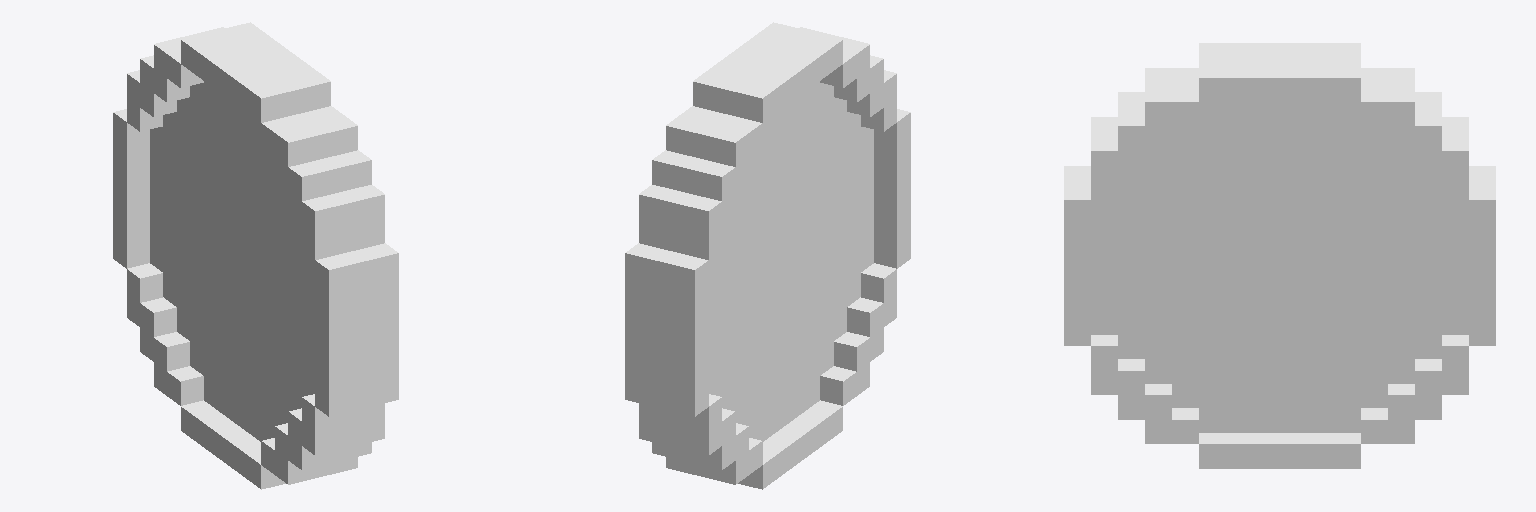
Rendered from DoorBallThing.obj.
3 views of the same model, side by side, from view 1: azimuth 30°, elevation 25°; view 2: azimuth 150°, elevation 25°; view 3: azimuth 270°, elevation 25° (orthographic).
Parts seen in each view (by area): view 1: object 1; view 2: object 1; view 3: object 1.
Boxes of the visible parts, <box> form: object 1: <box>113,22,398,489</box>; object 1: <box>625,22,910,489</box>; object 1: <box>1064,43,1495,468</box>.
Size of the model in its own units: 0.3 by 1.6 by 1.6.